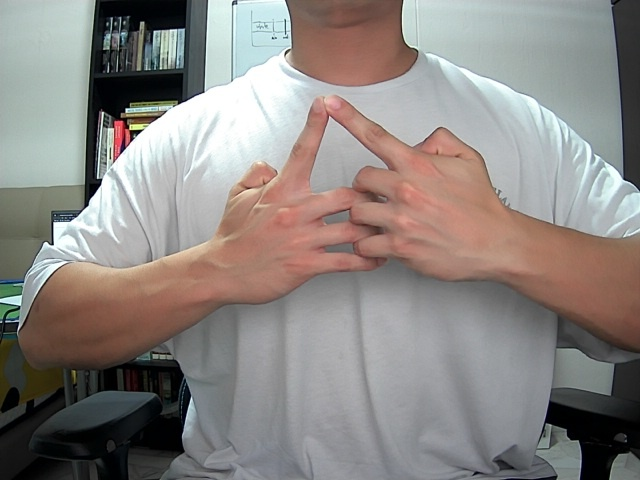Horse: (220, 68, 505, 326)
